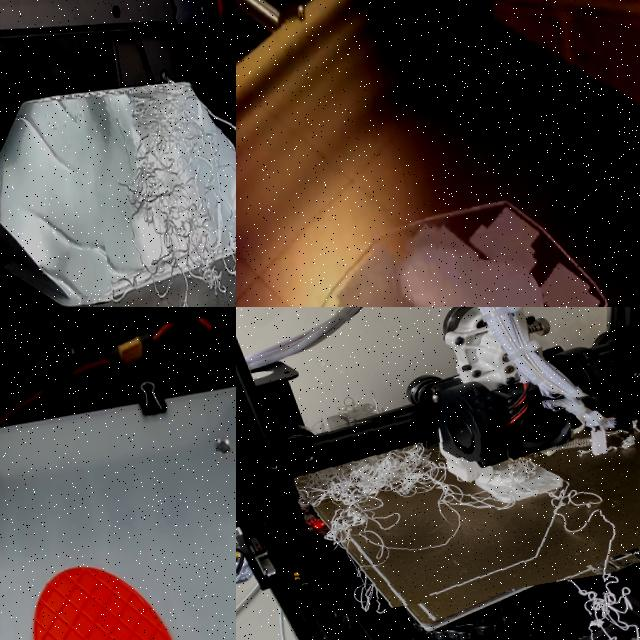spaghetti: (271, 375, 640, 622), (81, 66, 236, 307), (500, 564, 640, 640)
